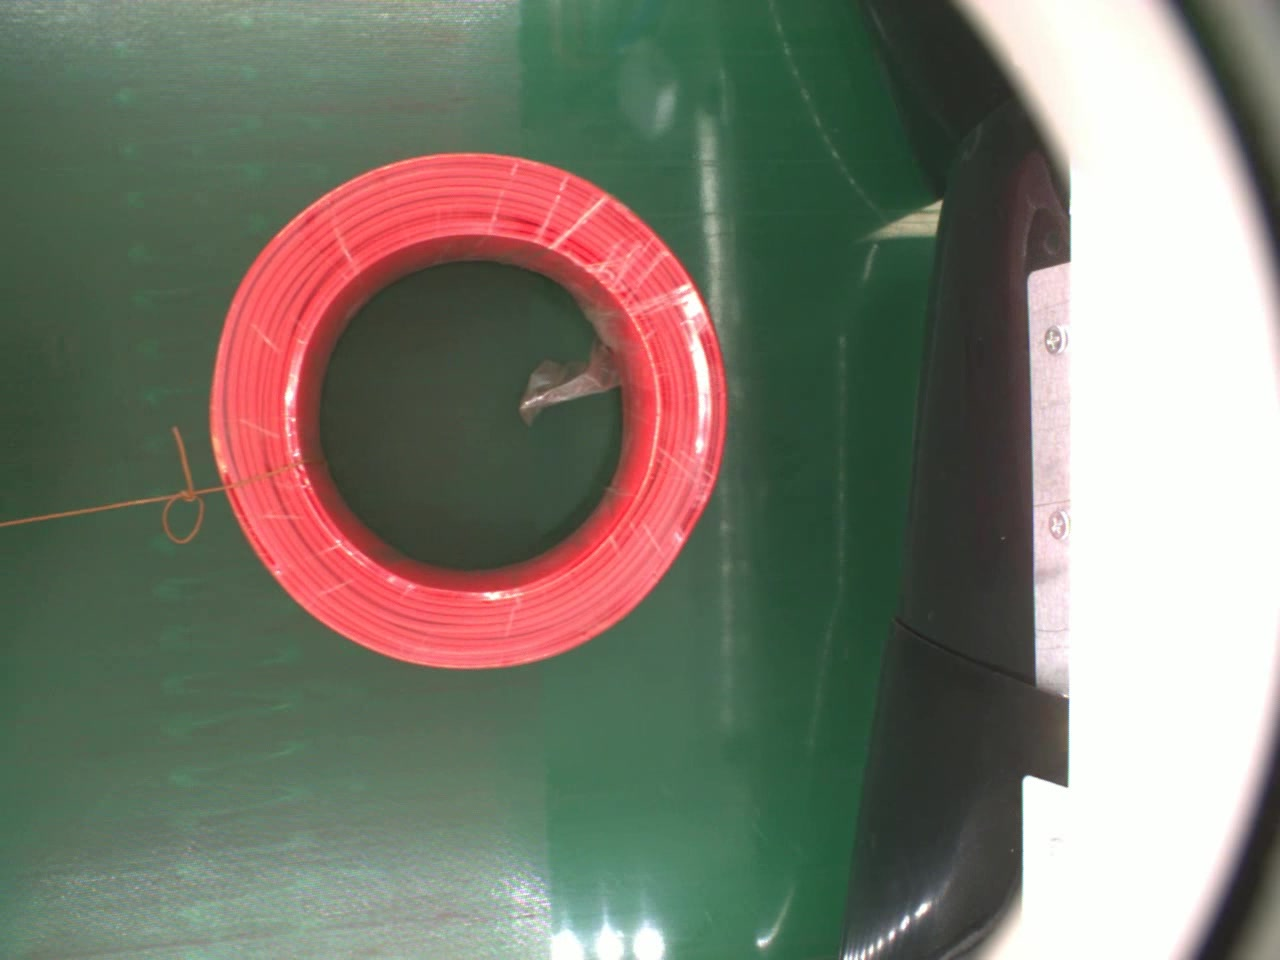red: (207, 145, 730, 672)
